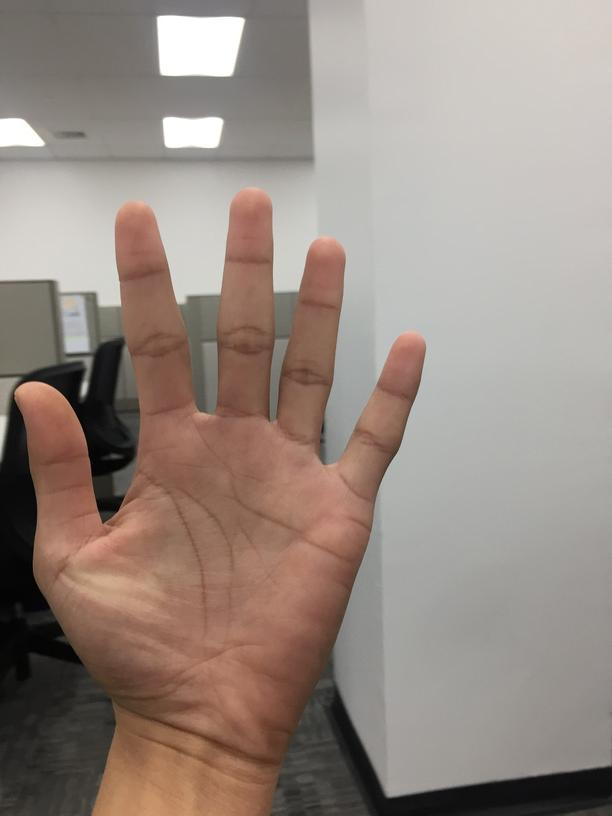hand: (12, 184, 426, 765)
